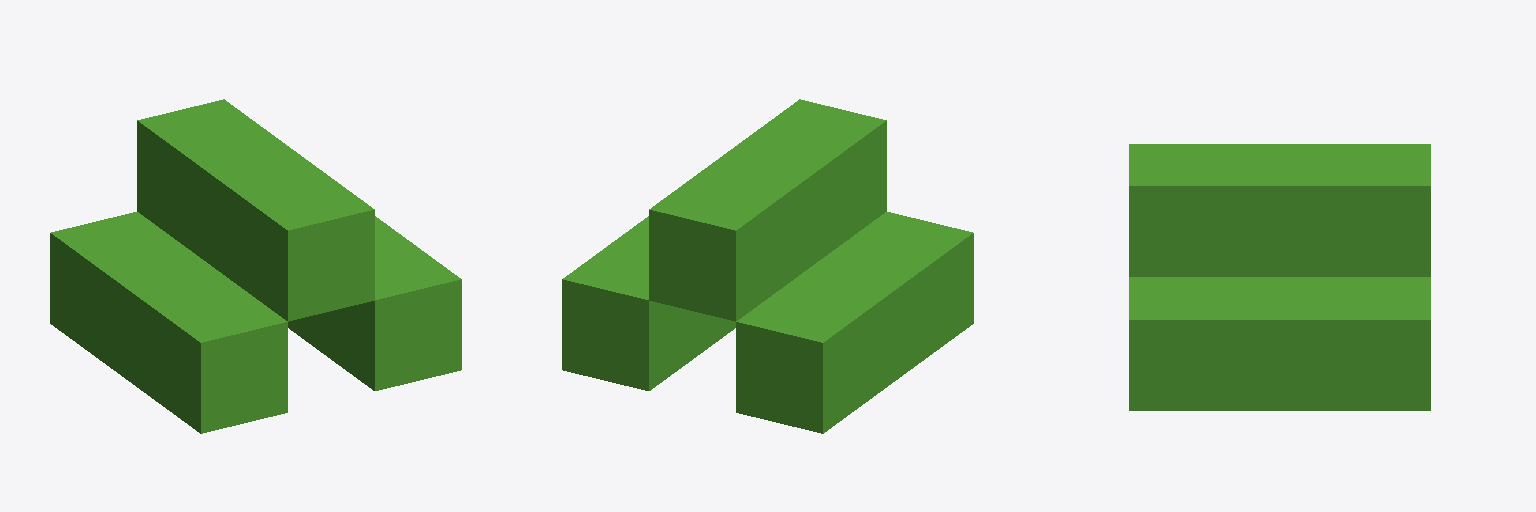
Rendered from tent_blend_9.obj.
3 views of the same model, side by side, from view 1: azimuth 30°, elevation 25°; view 2: azimuth 150°, elevation 25°; view 3: azimuth 270°, elevation 25° (orthographic).
Visible parts, largest first — view 1: tent; view 2: tent; view 3: tent.
Boxes of the visible parts, <box> form: tent: <box>50,99,461,433</box>; tent: <box>562,99,973,433</box>; tent: <box>1129,144,1430,410</box>.
Bounding box in the file's own units: 1.5 × 1 × 1.5.